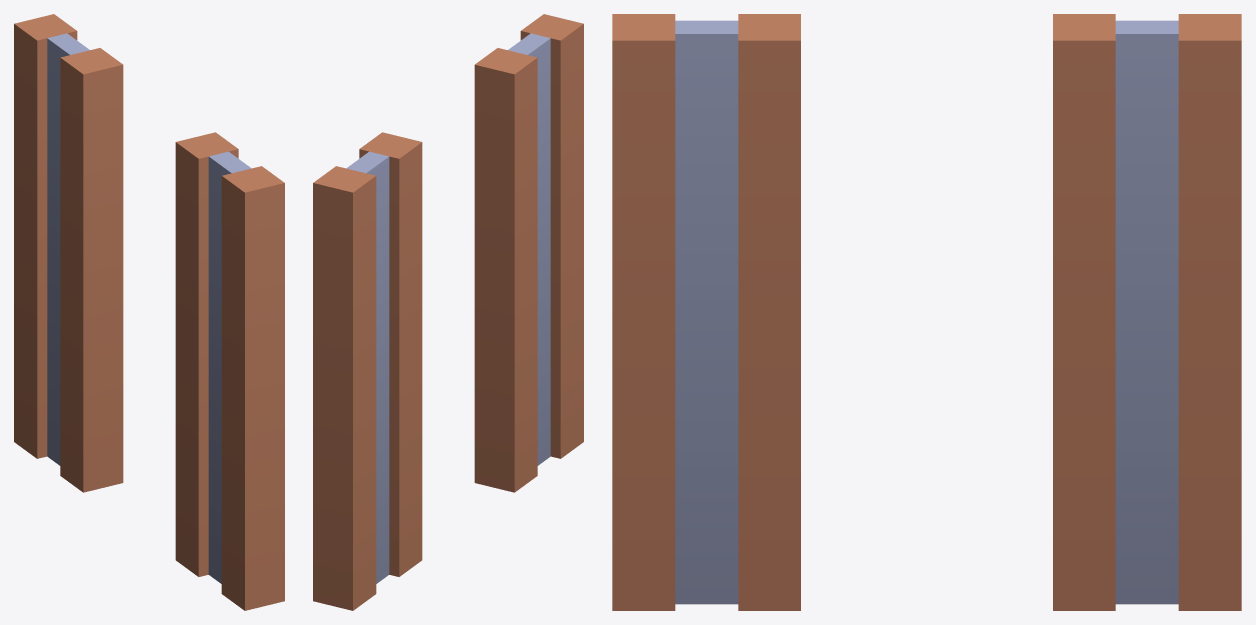
File: gate-kn-wall-doorway-base.glb
3 renders of one model, left to right at view 1: azimuth 30°, elevation 25°; view 2: azimuth 150°, elevation 25°; view 3: azimuth 270°, elevation 25°, orthographic. The views are drawn at different scales.
Parts seen in each view (by area): view 1: wall-doorway-base; view 2: wall-doorway-base; view 3: wall-doorway-base.
Part boxes in pixels (x1=…): wall-doorway-base: x1=14, y1=14, x2=284, y2=610; wall-doorway-base: x1=313, y1=14, x2=583, y2=610; wall-doorway-base: x1=612, y1=14, x2=1241, y2=610.
Size of the model in its own units: 0.3 by 3 by 3.
1 material, 1 textured.
